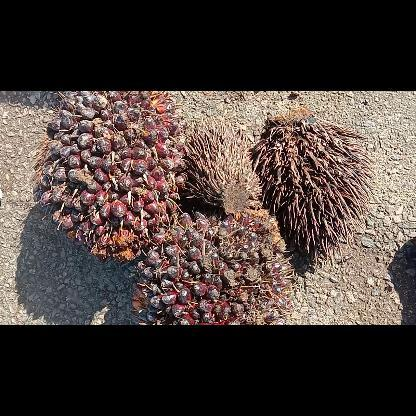Janjang kosong: (252, 106, 376, 268), (182, 115, 262, 213)
TBS mentah: (29, 91, 184, 263), (130, 208, 296, 324)
